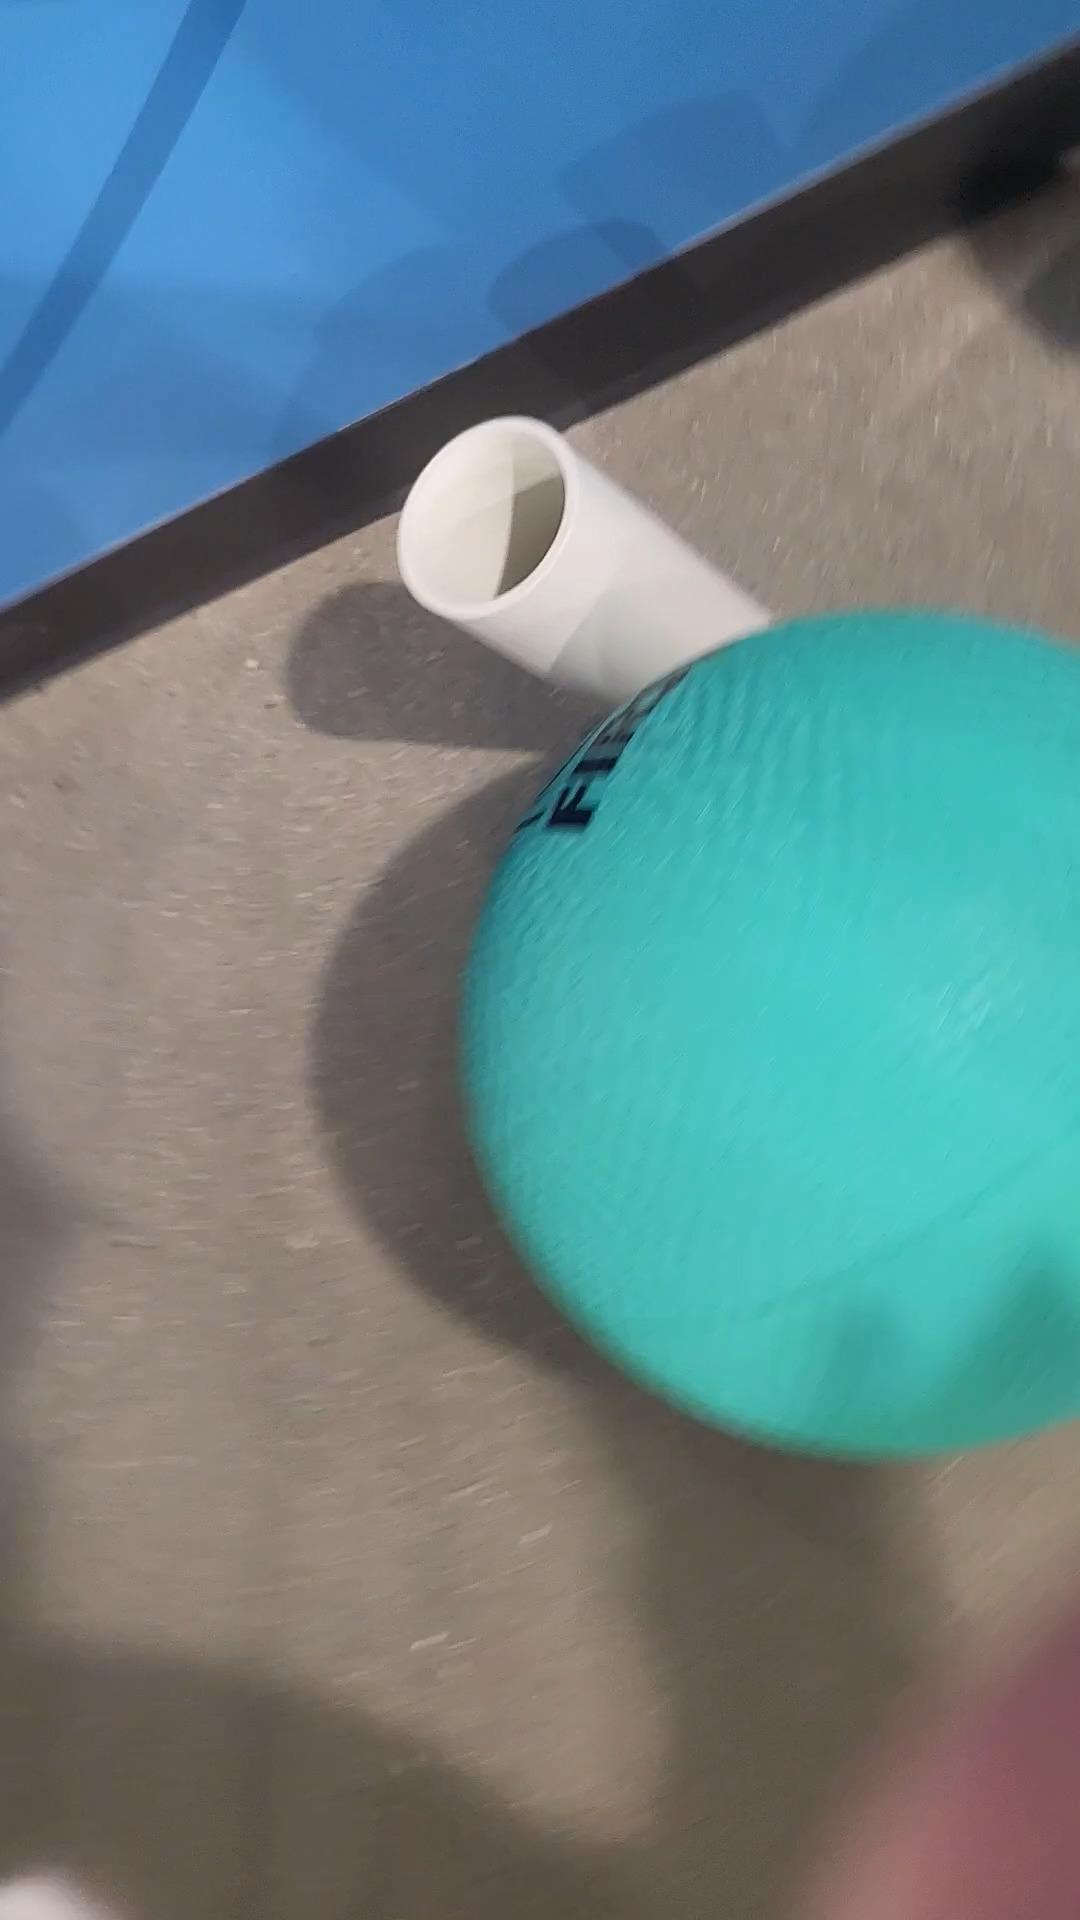algae: (473, 580, 1080, 1466)
coral: (393, 406, 794, 713)
